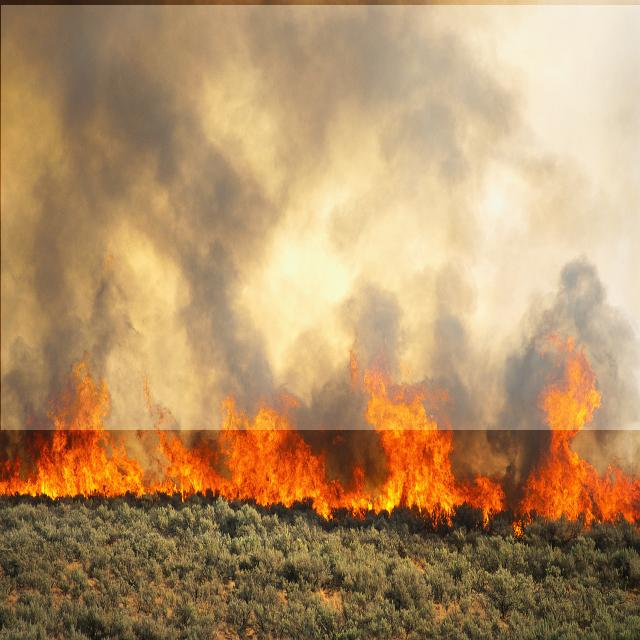Fire: (0, 392, 632, 540)
Smoke: (1, 5, 640, 430)
